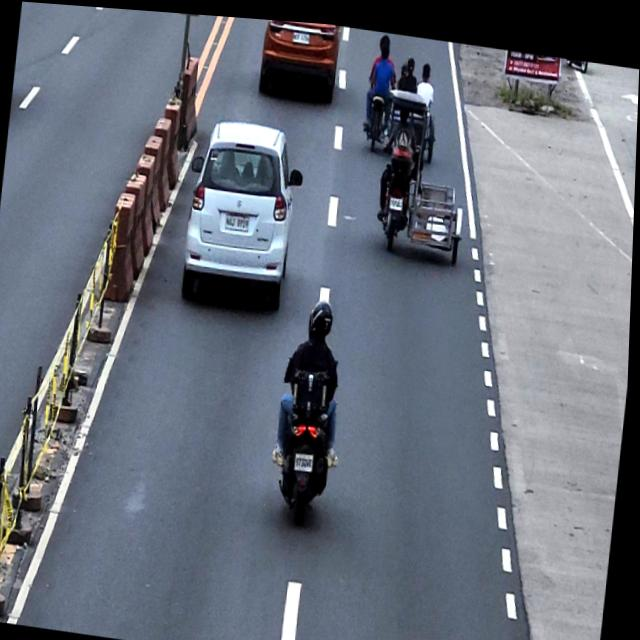Car: (179, 110, 309, 309), (257, 15, 341, 104)
License-Plate: (225, 208, 252, 229), (296, 446, 317, 468), (292, 25, 310, 40)
Motorcycle: (273, 351, 348, 518)
